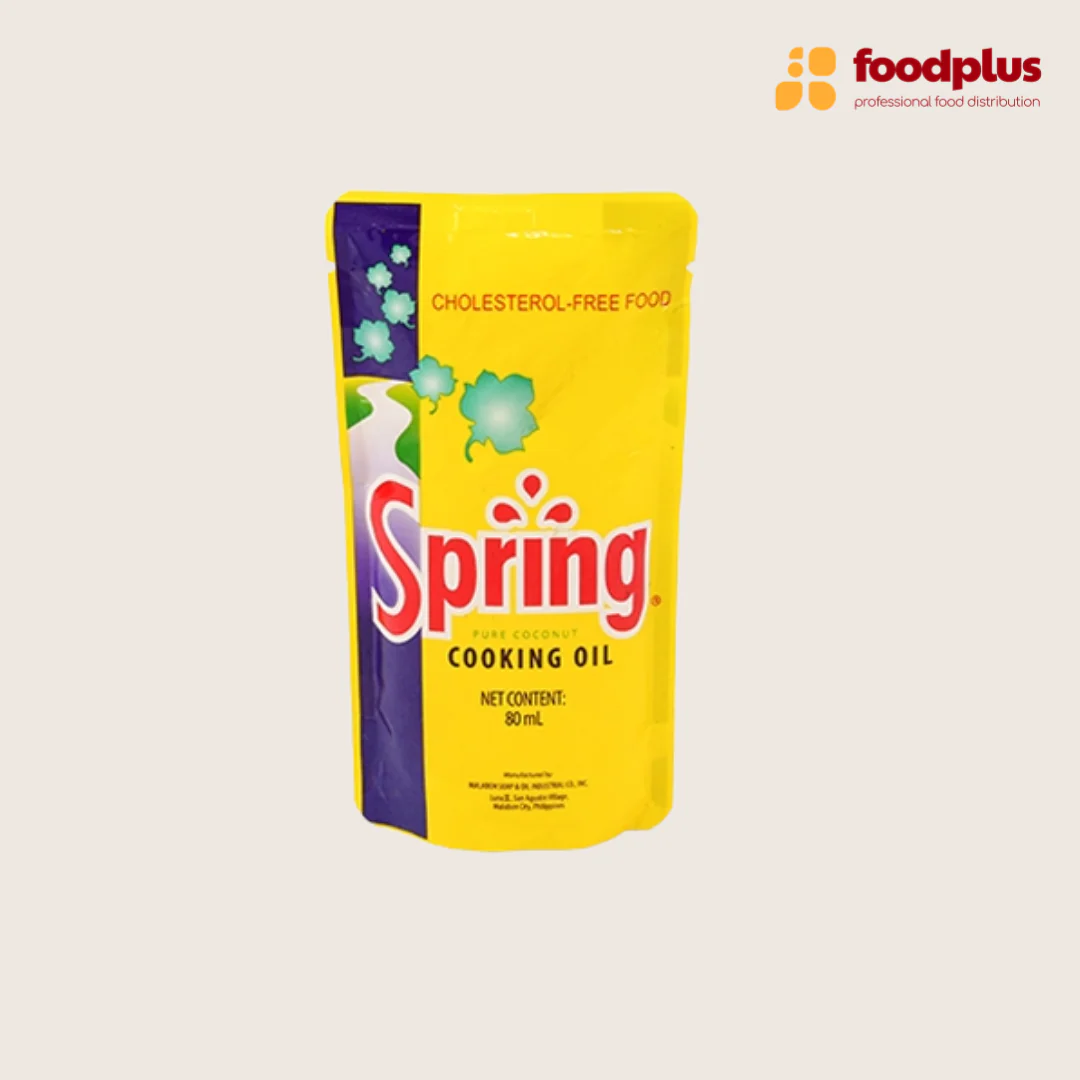non-toxic_waste: (329, 197, 690, 844)
